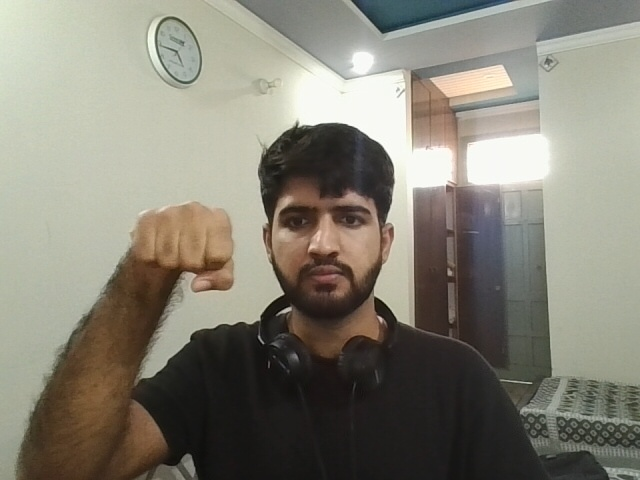Yes: (105, 189, 252, 307)
